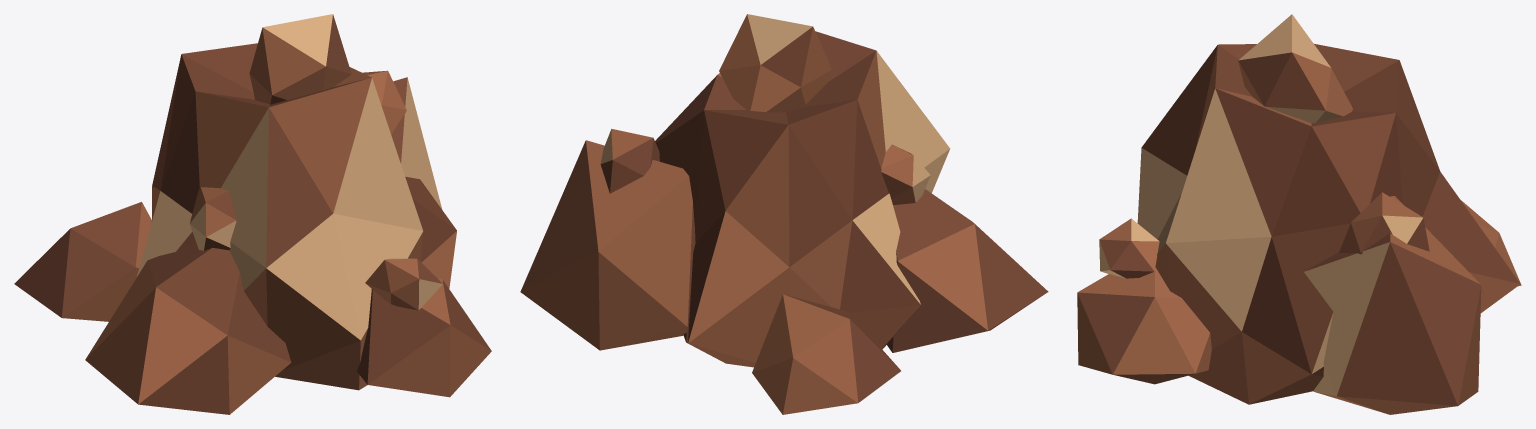
Rendered from bauxite_a.glb.
3 views of the same model, side by side, from view 1: azimuth 30°, elevation 25°; view 2: azimuth 150°, elevation 25°; view 3: azimuth 270°, elevation 25° (orthographic). The views are drawn at different scales.
Visible parts, largest first — view 1: bauxite_a; view 2: bauxite_a; view 3: bauxite_a.
Boxes of the visible parts, box(x1,y1,x2,y2) form: bauxite_a: box(14, 14, 491, 414); bauxite_a: box(520, 14, 1048, 414); bauxite_a: box(1077, 14, 1521, 414).
Size of the model in its own units: 1.23 by 0.877 by 1.13.
